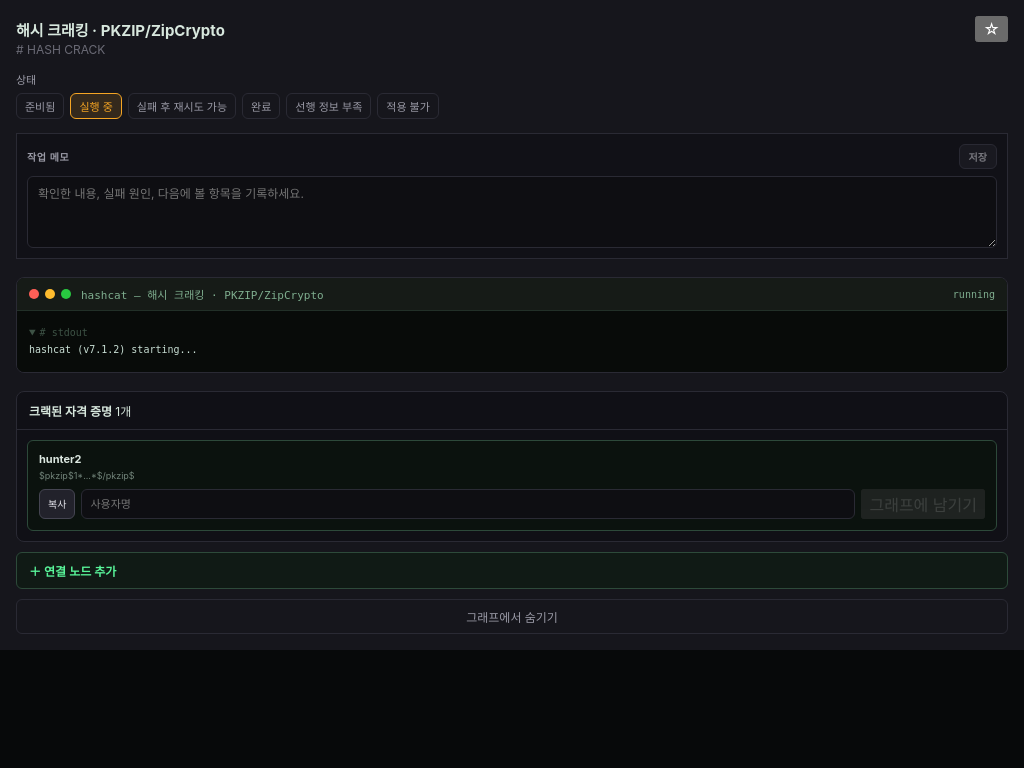
Test: shows a hash-crack job's live output and lets a cracked hash be promoted
This screenshot has width=1024, height=768.
Expected: the text "hashcat (v7.1.2) starting..." is shown, x1=29 y1=344 x2=198 y2=355
Expected: the text "hunter2" is shown, x1=39 y1=452 x2=81 y2=466
Type "admin" into the field with placeholder "사용자명" at (468,504), box x1=81 y1=488 x2=855 y2=518
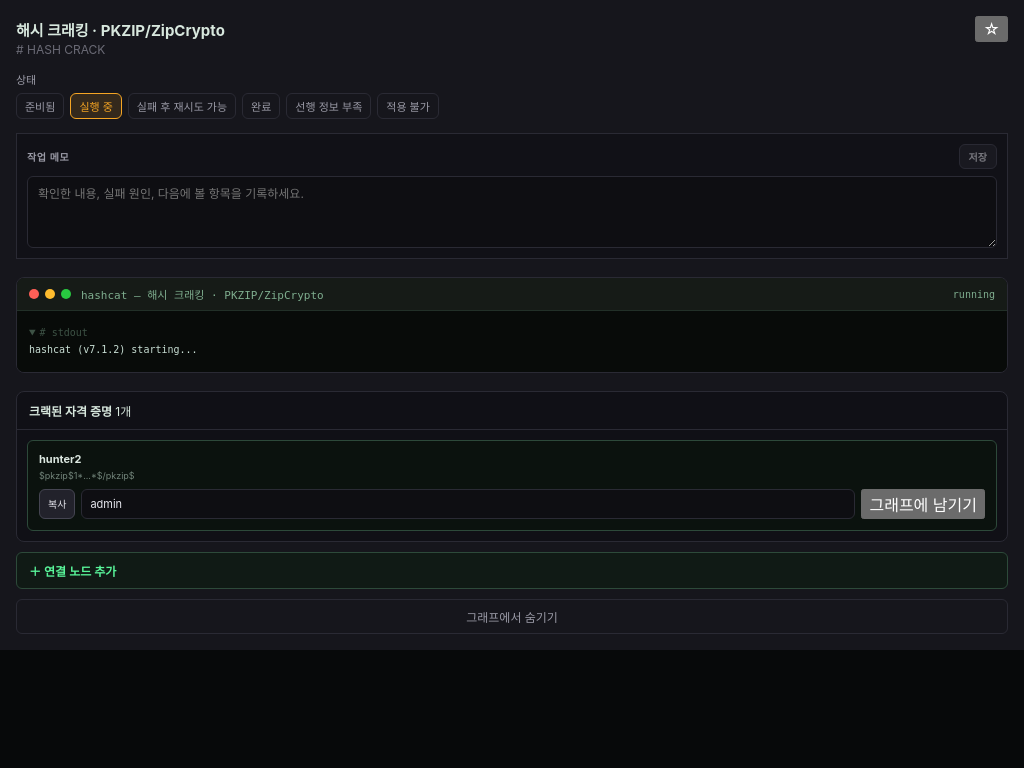
Click the button "그래프에 남기기" at (923,504), box x1=862 y1=488 x2=985 y2=518
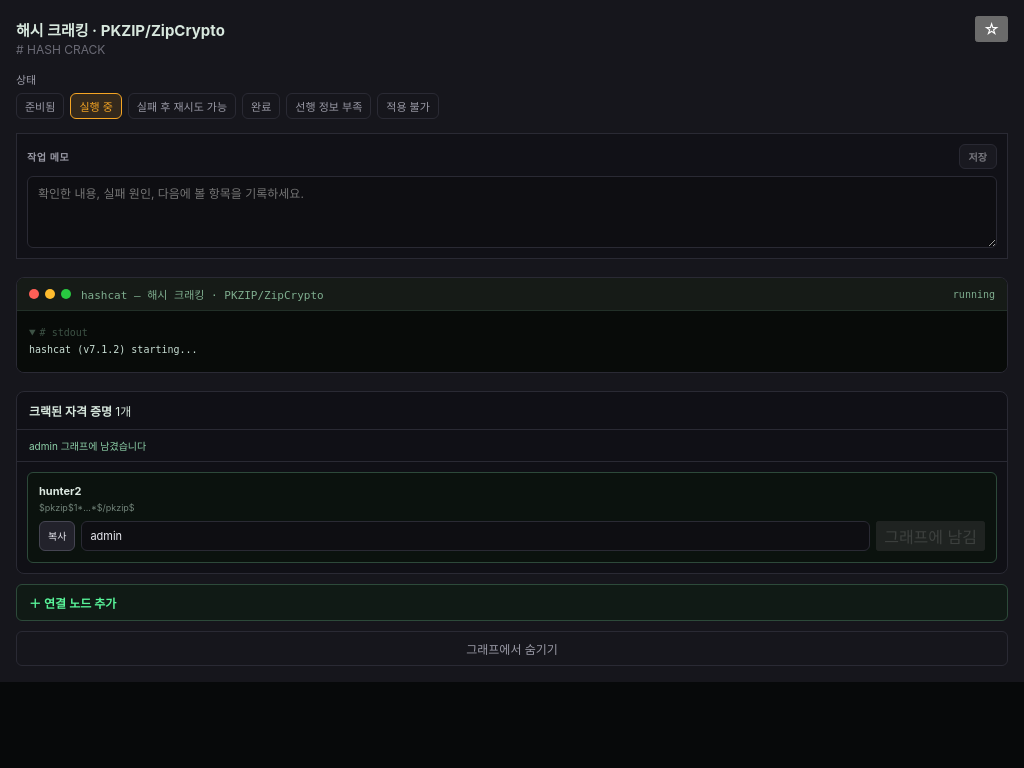
Now the text "admin 그래프에 남겼습니다" is shown, box x1=17 y1=430 x2=1007 y2=462
